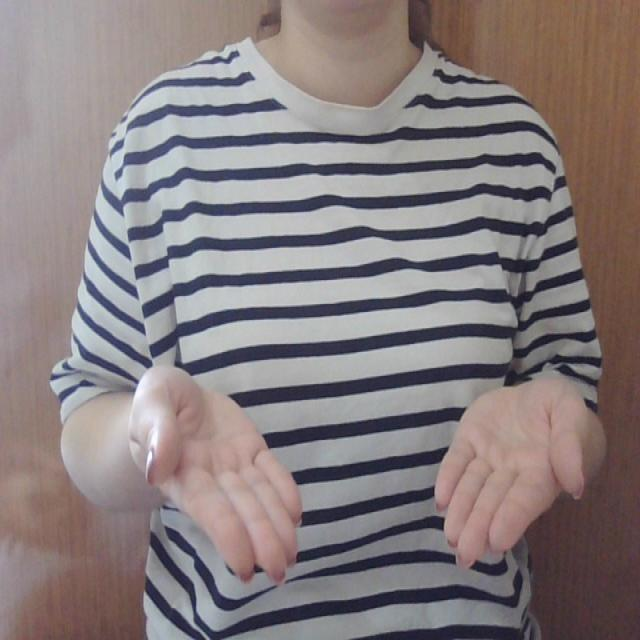Evet: (125, 349, 592, 588)
